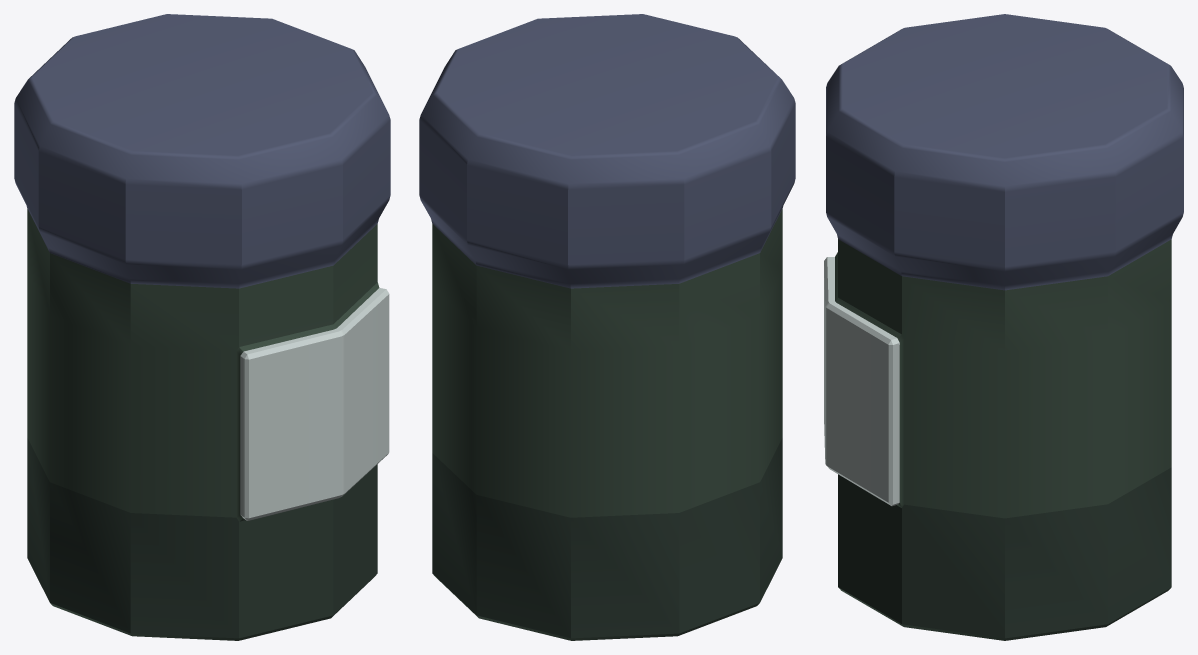
Rendered from jar_blue.fbx.
3 renders of one model, left to right at view 1: azimuth 30°, elevation 25°; view 2: azimuth 150°, elevation 25°; view 3: azimuth 270°, elevation 25°, orthographic.
Parts seen in each view (by area): view 1: pCylinder9; view 2: pCylinder9; view 3: pCylinder9.
Part boxes in pixels (x1,y1,x2,y2): pCylinder9: (14,14,390,640); pCylinder9: (419,14,795,640); pCylinder9: (824,14,1183,640).
Size of the model in its own units: 0.9008 by 1.27 by 0.8612.
